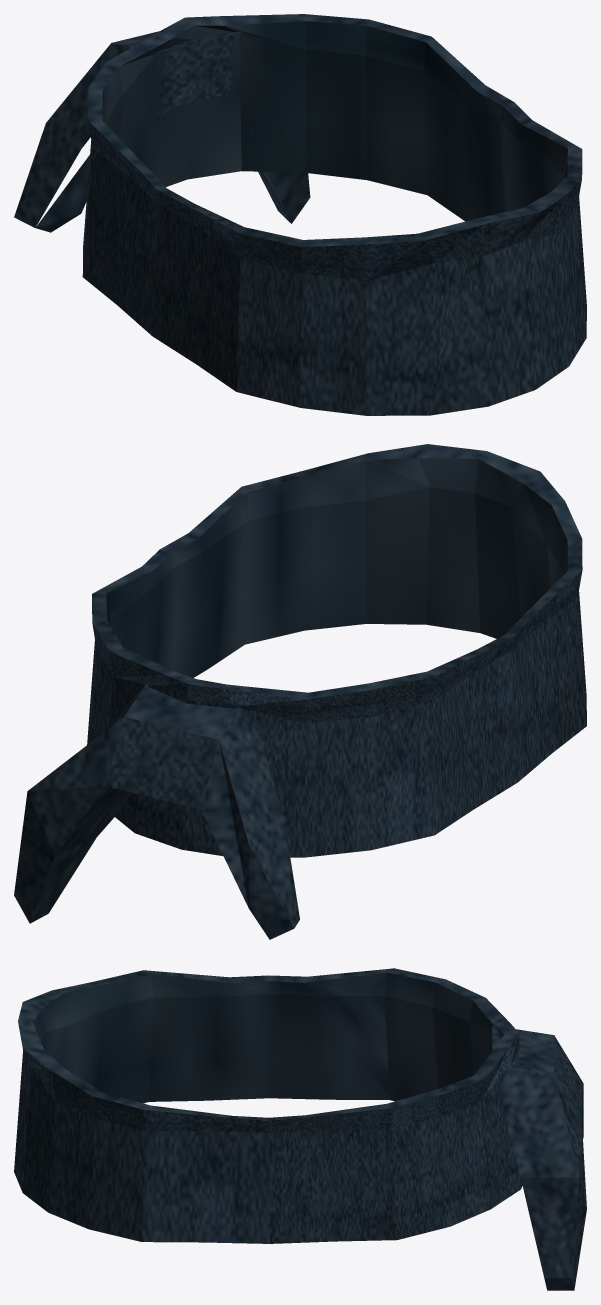
File: OPASKA2.glb
3 views of the same model, one above another, from view 1: azimuth 30°, elevation 25°; view 2: azimuth 150°, elevation 25°; view 3: azimuth 270°, elevation 25° (orthographic). The views are drawn at different scales.
Parts seen in each view (by area): view 1: OPASKA2; view 2: OPASKA2; view 3: OPASKA2.
Boxes of the visible parts, <box> form: OPASKA2: <box>14,14,586,415</box>; OPASKA2: <box>14,444,586,939</box>; OPASKA2: <box>14,968,586,1290</box>.
Size of the model in its own units: 0.1793 by 0.1237 by 0.2931.
1 material, 1 textured.
